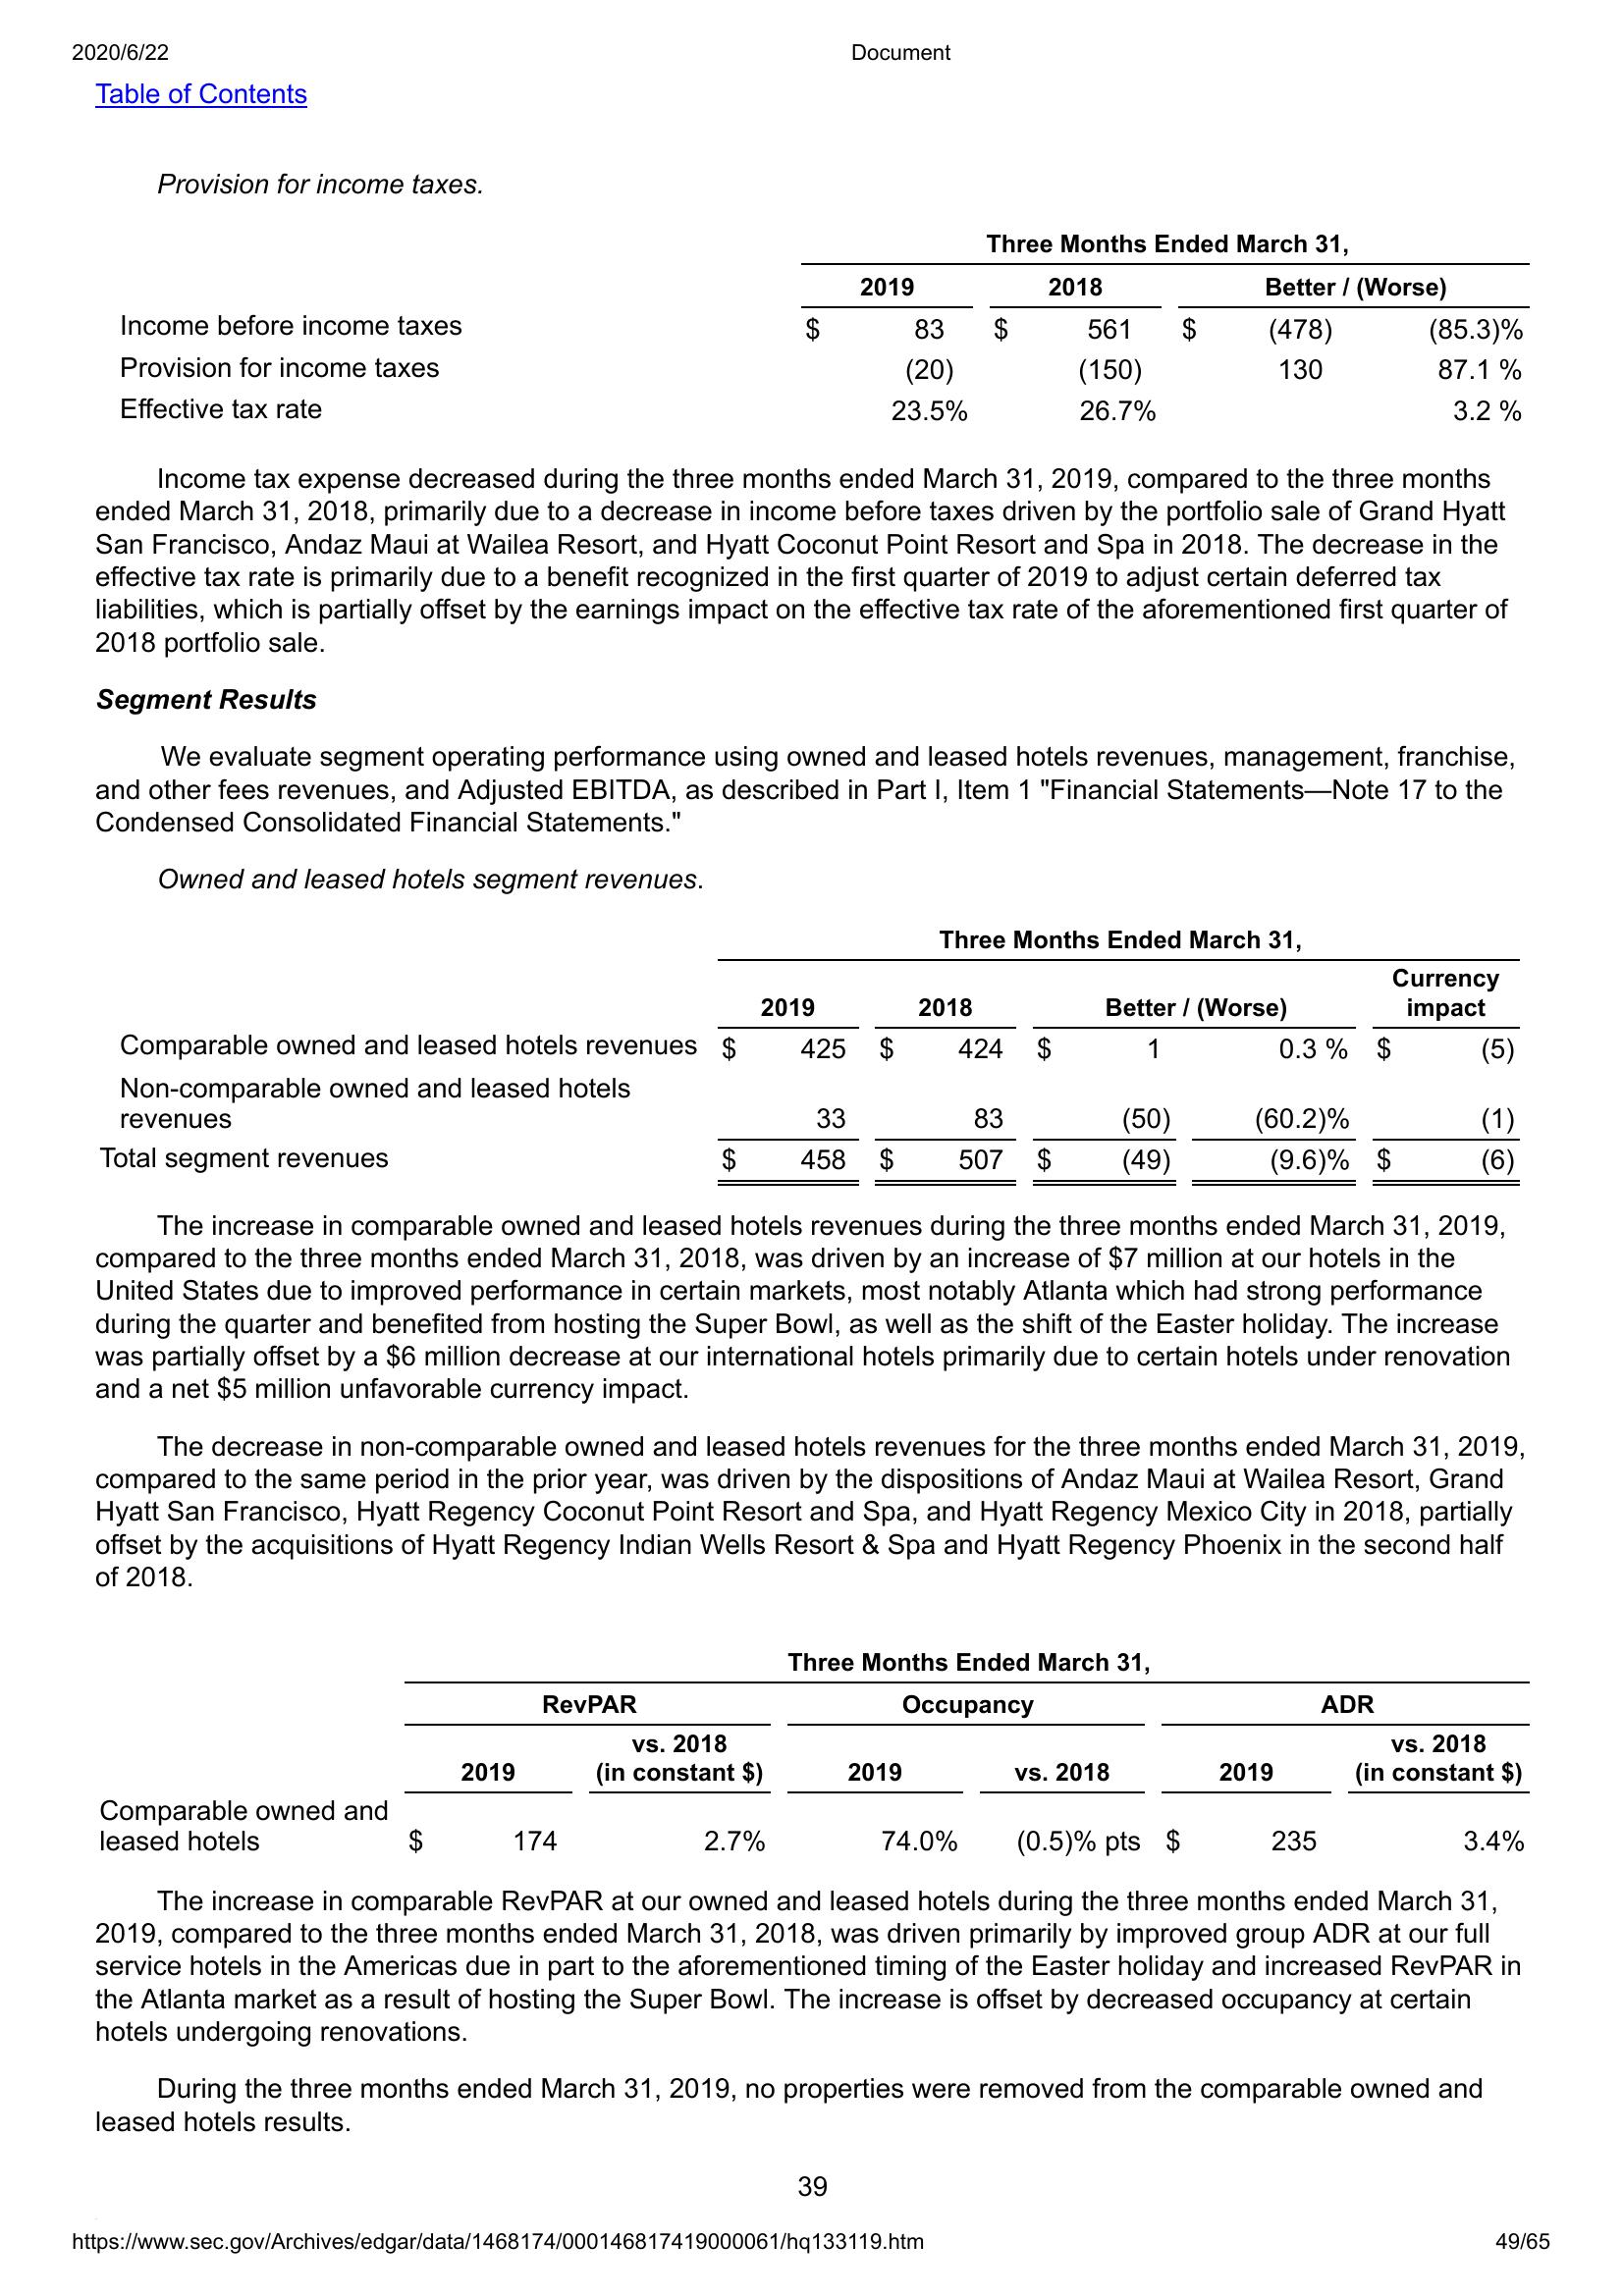table: (95, 915, 1525, 1195), (97, 1643, 1535, 1862), (112, 226, 1540, 434)
